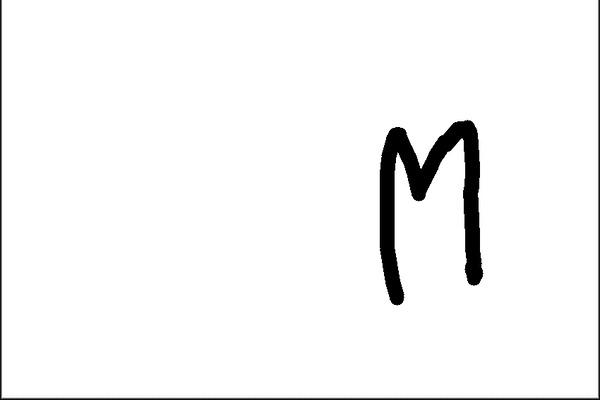M: (377, 117, 484, 307)
